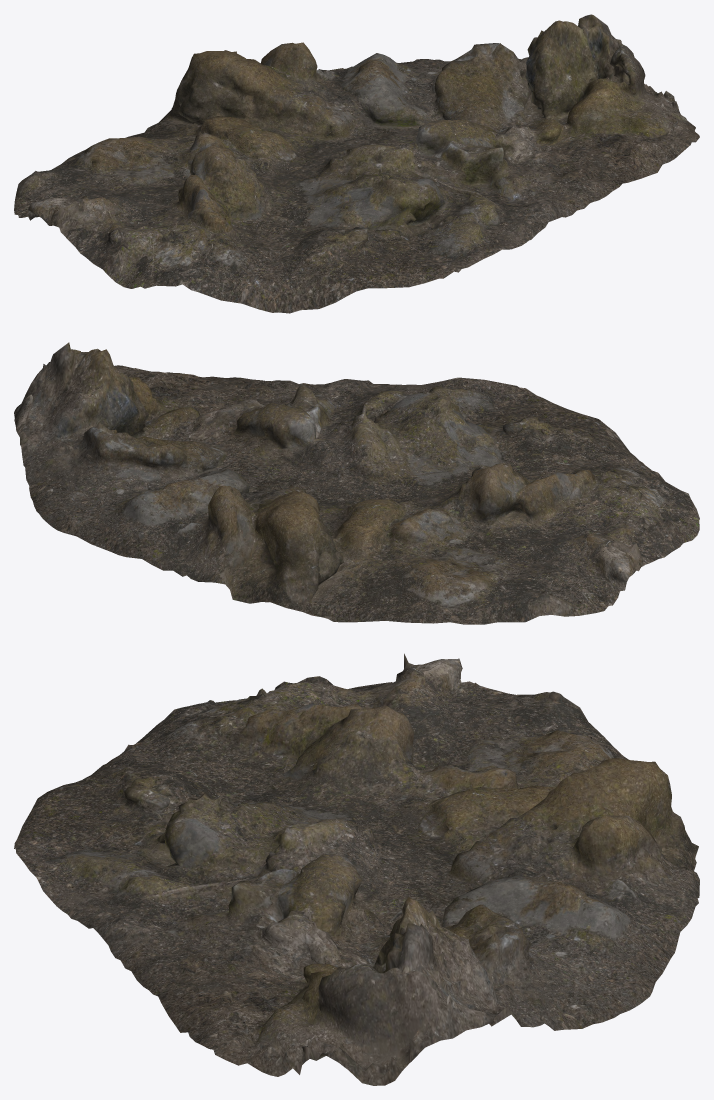
Rendered from PX_Mossy_Rock_10_LOD2.fbx.
3 renders of one model, top to bottom at view 1: azimuth 30°, elevation 25°; view 2: azimuth 150°, elevation 25°; view 3: azimuth 270°, elevation 25°, orthographic. The views are drawn at different scales.
Parts seen in each view (by area): view 1: PX_Mossy_Rock_10_LOD2; view 2: PX_Mossy_Rock_10_LOD2; view 3: PX_Mossy_Rock_10_LOD2.
Boxes of the visible parts, left/top/right/bottom form: PX_Mossy_Rock_10_LOD2: left=14, top=14, right=699, bottom=313; PX_Mossy_Rock_10_LOD2: left=14, top=342, right=699, bottom=624; PX_Mossy_Rock_10_LOD2: left=14, top=653, right=699, bottom=1085.
Bounding box in the file's own units: 236 × 40.29 × 171.
